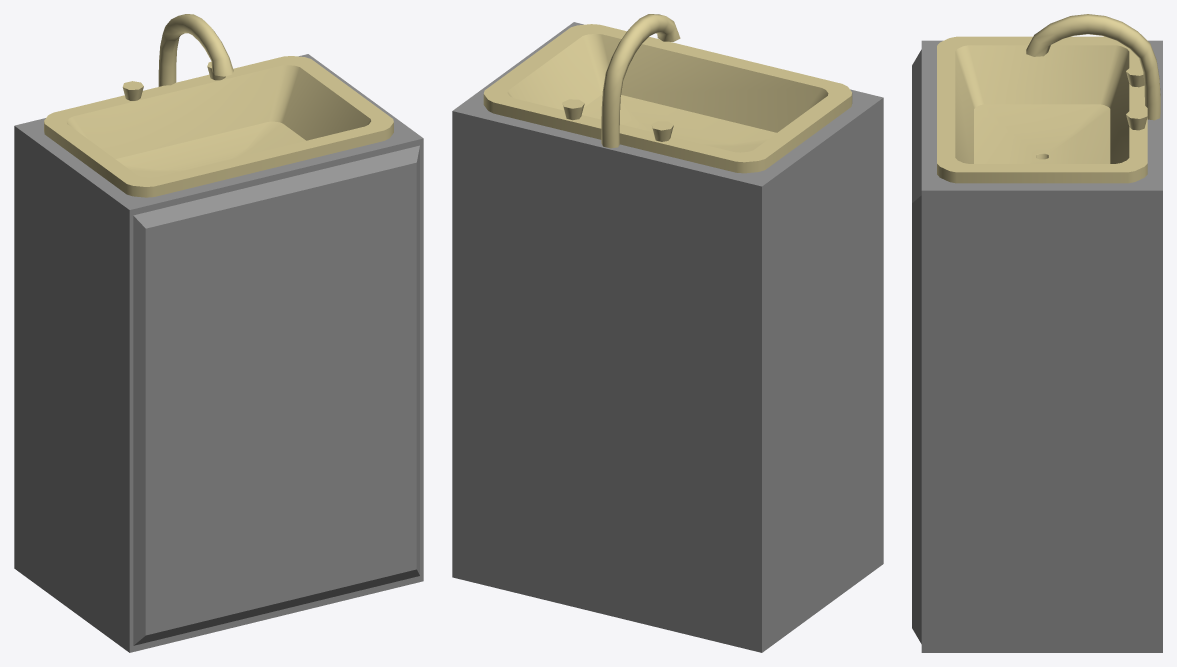
Rendered from SM_BathroomSink.FBX.
3 views of the same model, side by side, from view 1: azimuth 30°, elevation 25°; view 2: azimuth 150°, elevation 25°; view 3: azimuth 270°, elevation 25° (orthographic). The views are drawn at different scales.
Visible parts, largest first — view 1: SM_BathroomSink; view 2: SM_BathroomSink; view 3: SM_BathroomSink.
Part boxes in pixels (<box>): SM_BathroomSink: <box>14,14,423,652</box>; SM_BathroomSink: <box>452,14,883,652</box>; SM_BathroomSink: <box>912,14,1162,652</box>.
Size of the model in its own units: 26.85 by 47.04 by 18.98.
